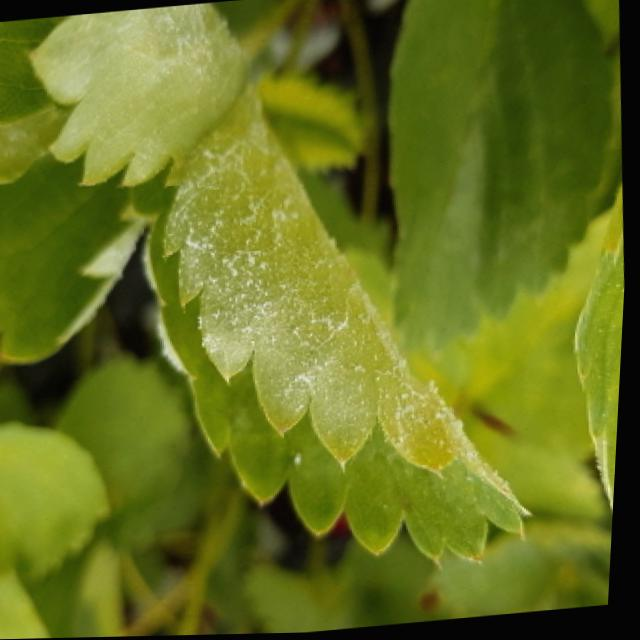Powdery Mildew Leaf: (131, 74, 543, 568), (0, 3, 250, 190), (0, 108, 152, 365)
